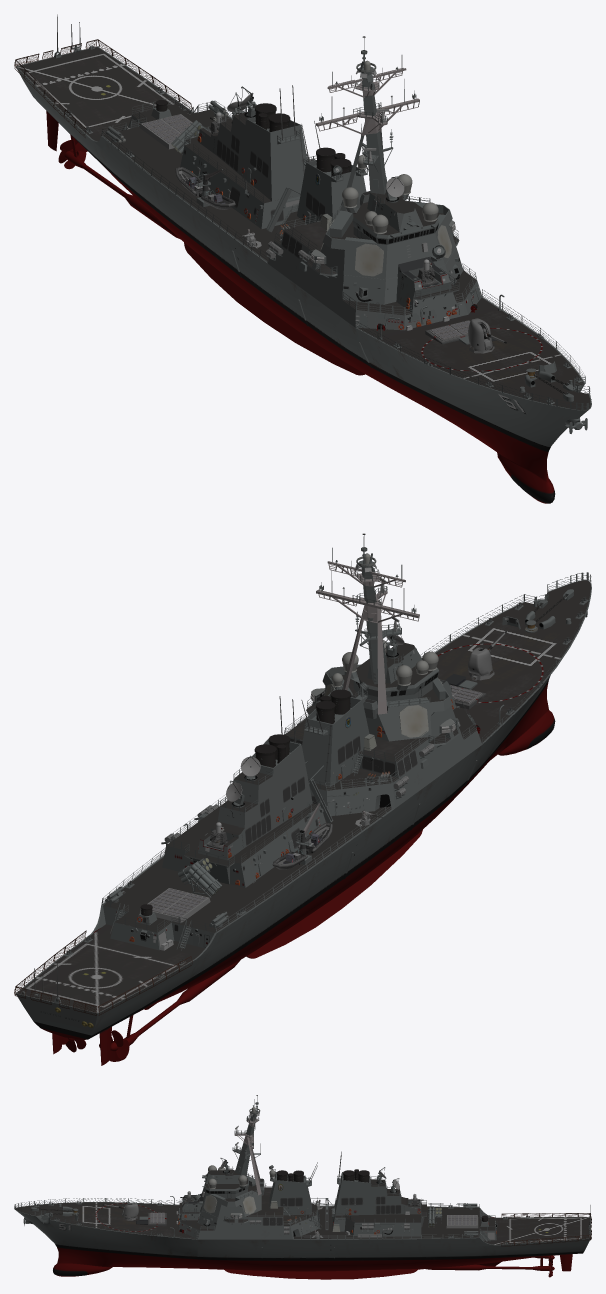
The model's file is ship.gltf.
3 renders of one model, top to bottom at view 1: azimuth 30°, elevation 25°; view 2: azimuth 150°, elevation 25°; view 3: azimuth 270°, elevation 25°, orthographic. The views are drawn at different scales.
Visible parts, largest first — view 1: DDG51_5, RHIB_final_9, SPG62_FINAL_10; view 2: DDG51_5, SPG62_FINAL_10, RHIB_final_9; view 3: DDG51_5, SPG62_FINAL_10.
Part boxes in pixels (x1=…): DDG51_5: x1=14, y1=14, x2=591, y2=503; RHIB_final_9: x1=175, y1=167, x2=235, y2=209; SPG62_FINAL_10: x1=227, y1=86, x2=404, y2=202; DDG51_5: x1=14, y1=533, x2=591, y2=1065; SPG62_FINAL_10: x1=226, y1=624, x2=404, y2=807; RHIB_final_9: x1=272, y1=822, x2=332, y2=869; DDG51_5: x1=14, y1=1095, x2=591, y2=1279; SPG62_FINAL_10: x1=220, y1=1158, x2=399, y2=1193.
Bounding box in the file's own units: 24.73 × 53.45 × 154.
Materials: 5 (5 with a texture image).
